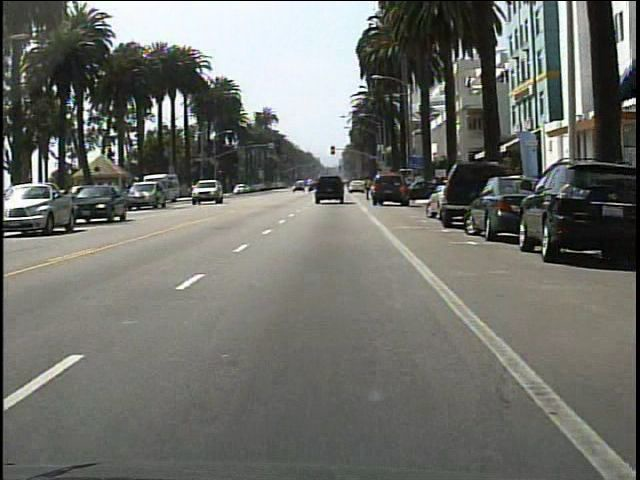person: (363, 174, 376, 204)
